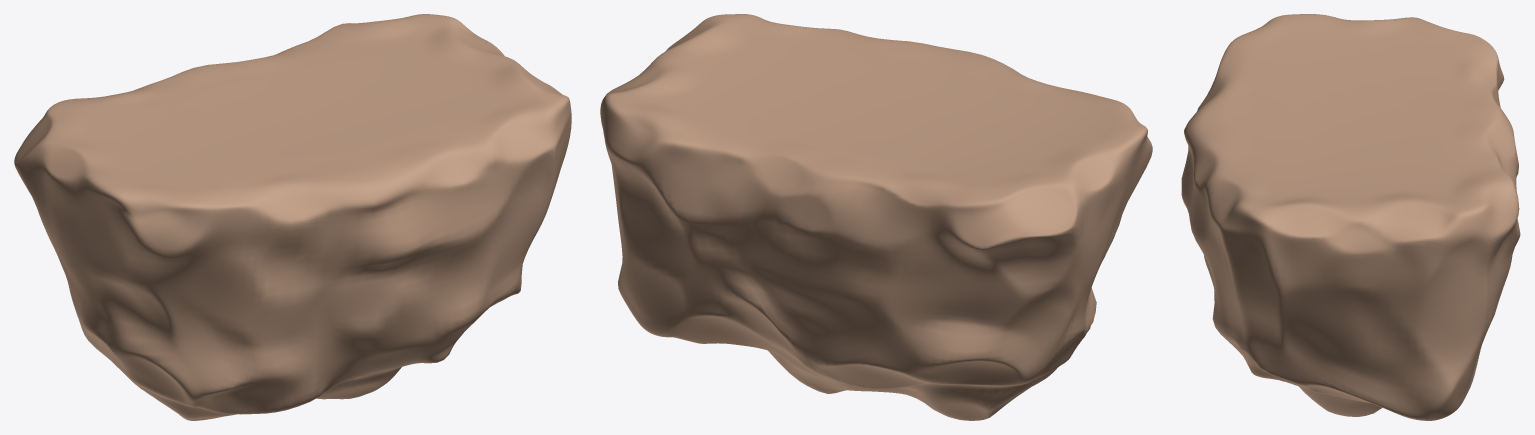
File: Platform_3D_HP.fbx
3 renders of one model, left to right at view 1: azimuth 30°, elevation 25°; view 2: azimuth 150°, elevation 25°; view 3: azimuth 270°, elevation 25°, orthographic. The views are drawn at different scales.
Parts seen in each view (by area): view 1: Box022; view 2: Box022; view 3: Box022.
Part boxes in pixels (x1=…): Box022: x1=14, y1=14, x2=571, y2=420; Box022: x1=600, y1=14, x2=1152, y2=420; Box022: x1=1181, y1=14, x2=1520, y2=420.
Size of the model in its own units: 997 by 610 by 667.
